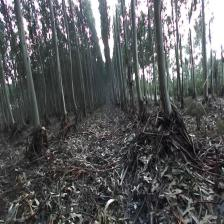trunk: (14, 8, 41, 137), (153, 4, 172, 116), (50, 10, 66, 119), (131, 7, 142, 104), (66, 37, 78, 114), (202, 11, 208, 102)
